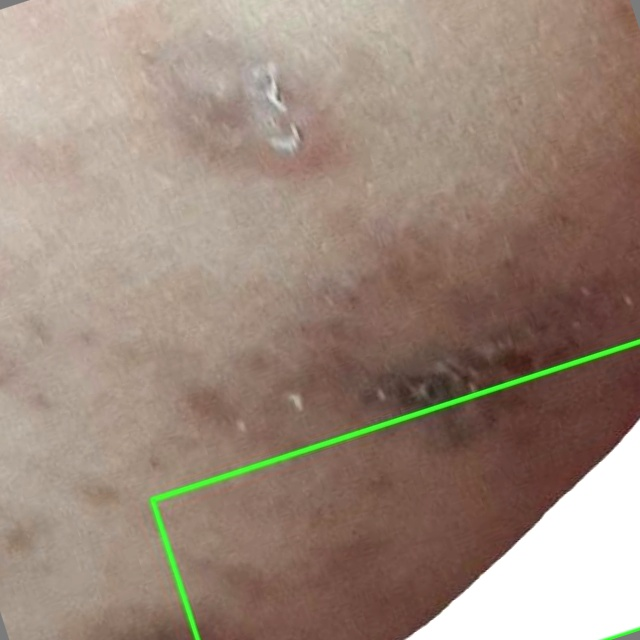Scabies: (152, 341, 639, 639)
